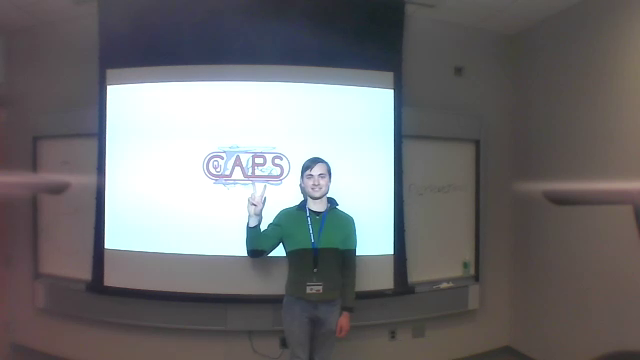peace: (241, 177, 277, 219)
